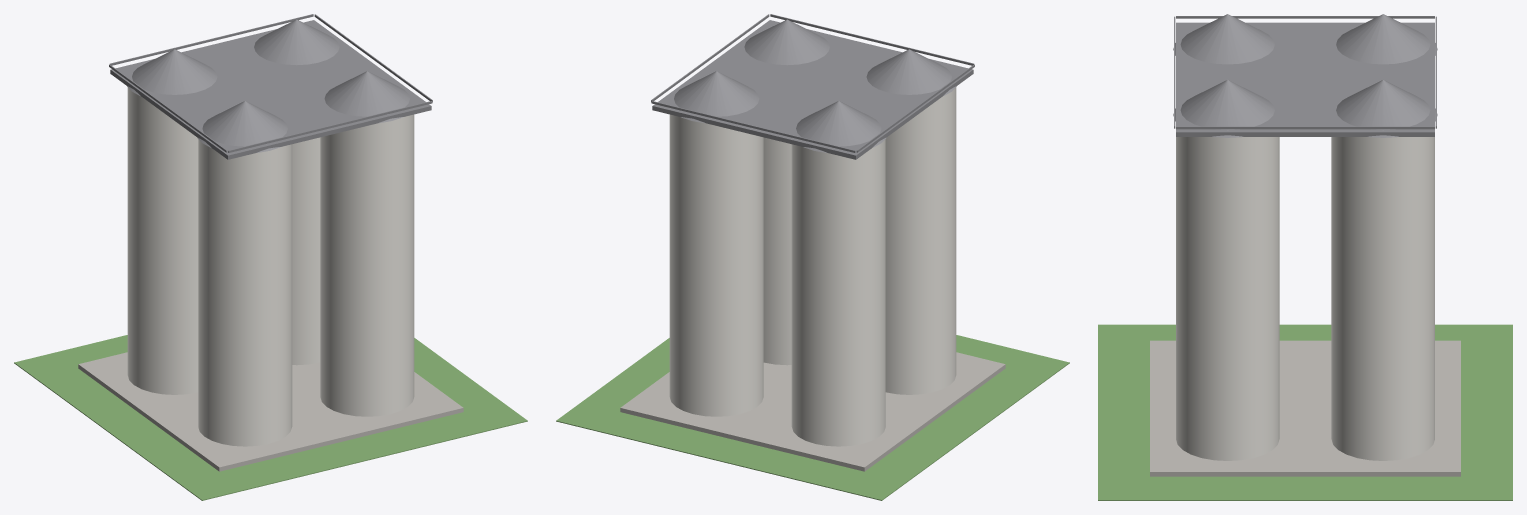
The model's file is grain_silo.glb.
3 views of the same model, side by side, from view 1: azimuth 30°, elevation 25°; view 2: azimuth 150°, elevation 25°; view 3: azimuth 270°, elevation 25° (orthographic). The views are drawn at different scales.
Visible parts, largest first — view 1: silo_3, silo_4, silo_1, ground, top_platform, foundation, silo_2, cap_1, cap_3, cap_2, cap_4, rail_s (+1 smaller); view 2: silo_1, silo_2, silo_3, ground, top_platform, foundation, silo_4, cap_3, cap_1, cap_4, cap_2, rail_n (+1 smaller); view 3: silo_2, silo_4, ground, foundation, top_platform, cap_1, cap_3, cap_2, cap_4, rail_e, rail_w.
Part boxes in pixels (x1,y1,x2,y2): silo_3: (198,139,292,446); silo_4: (320,114,414,416); silo_1: (127,87,198,394); ground: (14,335,527,500); top_platform: (110,20,431,159); foundation: (78,352,463,471); silo_2: (292,137,320,365); cap_1: (127,49,217,95); cap_3: (197,101,287,152); cap_2: (254,19,339,65); cap_4: (324,71,409,123); rail_s: (228,101,432,152); silo_1: (791,139,885,446); silo_2: (669,114,763,416); silo_3: (885,87,956,394); ground: (556,335,1069,500); top_platform: (652,20,973,159); foundation: (620,352,1005,471); silo_4: (763,137,791,365); cap_3: (866,49,956,95); cap_1: (796,101,886,152); cap_4: (744,19,829,65); cap_2: (674,71,759,123); rail_n: (651,101,855,152); silo_2: (1331,137,1434,460); silo_4: (1176,137,1279,460); ground: (1098,324,1512,500); foundation: (1150,340,1460,476); top_platform: (1176,22,1434,136); cap_1: (1336,14,1437,64); cap_3: (1173,14,1274,64); cap_2: (1336,80,1437,137); cap_4: (1173,80,1274,137); rail_e: (1176,126,1434,129); rail_w: (1176,16,1434,18).
Size of the model in its own units: 16 by 15.6 by 16.
